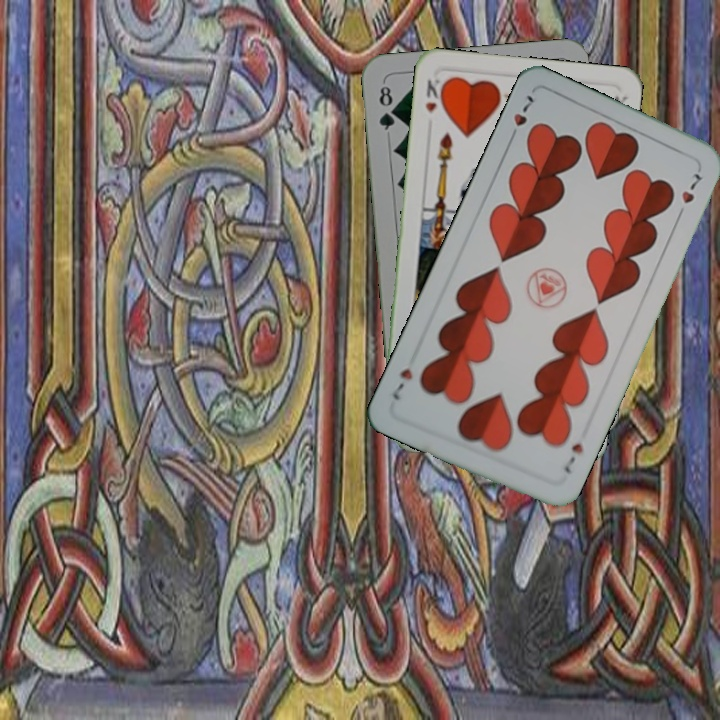G8: (375, 82, 398, 133)
H7: (505, 91, 537, 145), (560, 439, 586, 477)
HK: (421, 74, 448, 116)
